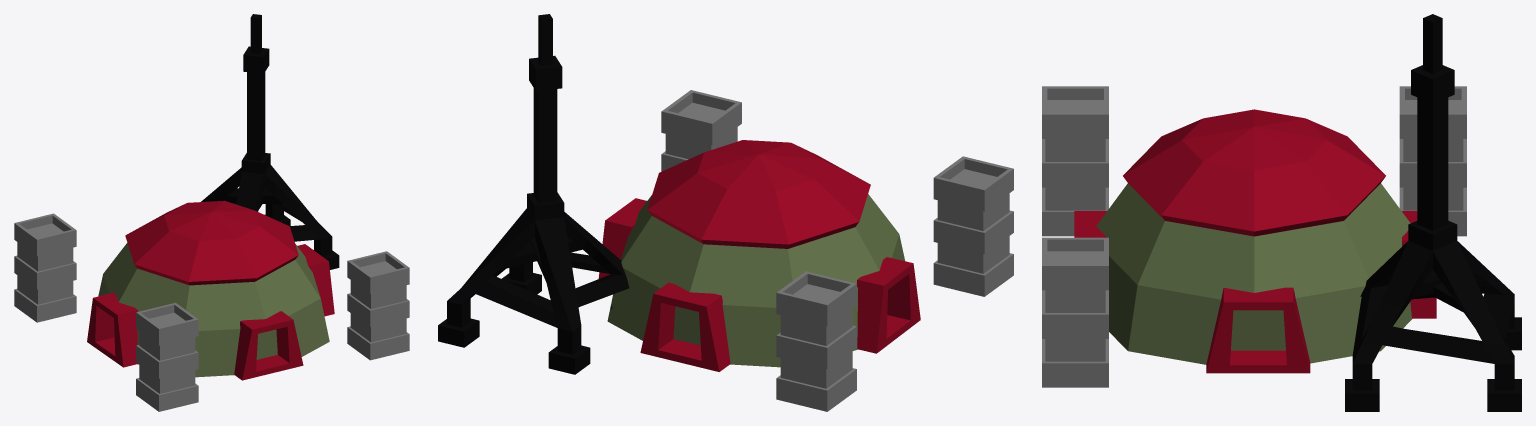
3 renders of one model, left to right at view 1: azimuth 30°, elevation 25°; view 2: azimuth 150°, elevation 25°; view 3: azimuth 270°, elevation 25°, orthographic. The views are drawn at different scales.
Parts seen in each view (by area): view 1: Cube.010; view 2: Cube.010; view 3: Cube.010.
Boxes of the visible parts, x1,y1,x2,y2 form: Cube.010: [14, 14, 409, 411]; Cube.010: [438, 14, 1013, 411]; Cube.010: [1042, 14, 1521, 411].
Size of the model in its own units: 537 by 439 by 537.
